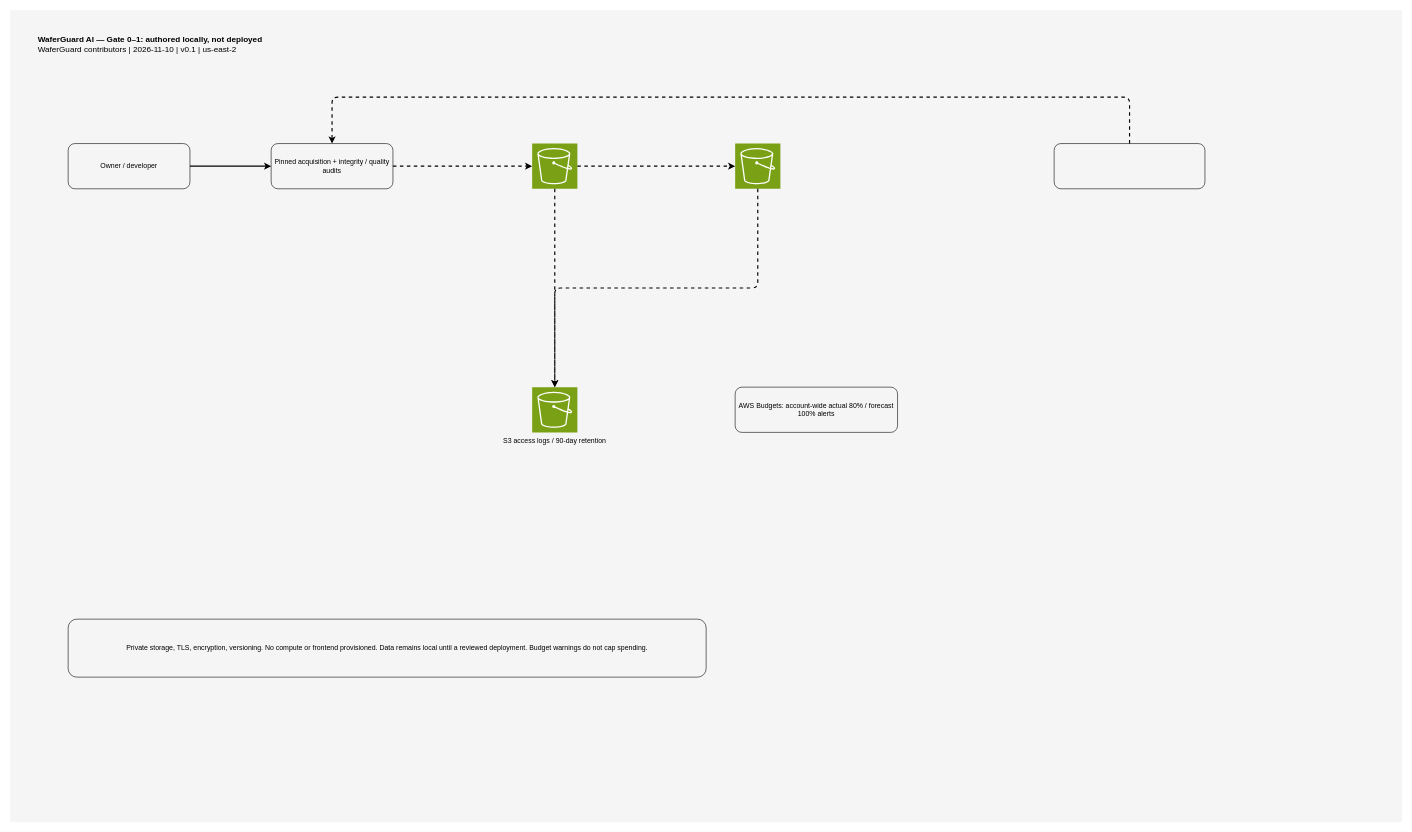
Image size: 1412x832. Some labels were removed from this diagram. Here are the shapes that lost their labels. From the top down, the centre of each, then its label:
At point 554,166: "S3 raw originals (retained)".
At point 757,166: "S3 artifacts (retained)".
At point 1129,166: "WM-811K / Kaggle source — real data".
